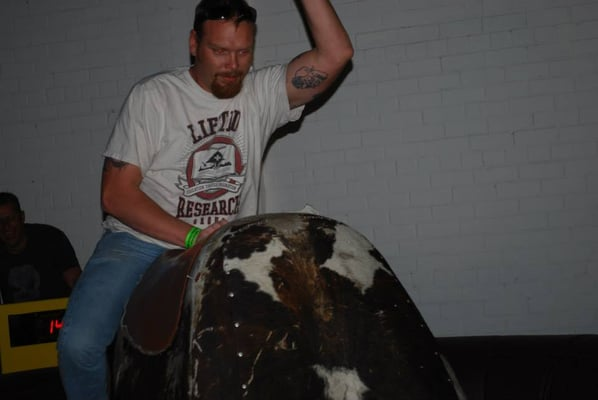soup: (104, 211, 464, 396)
